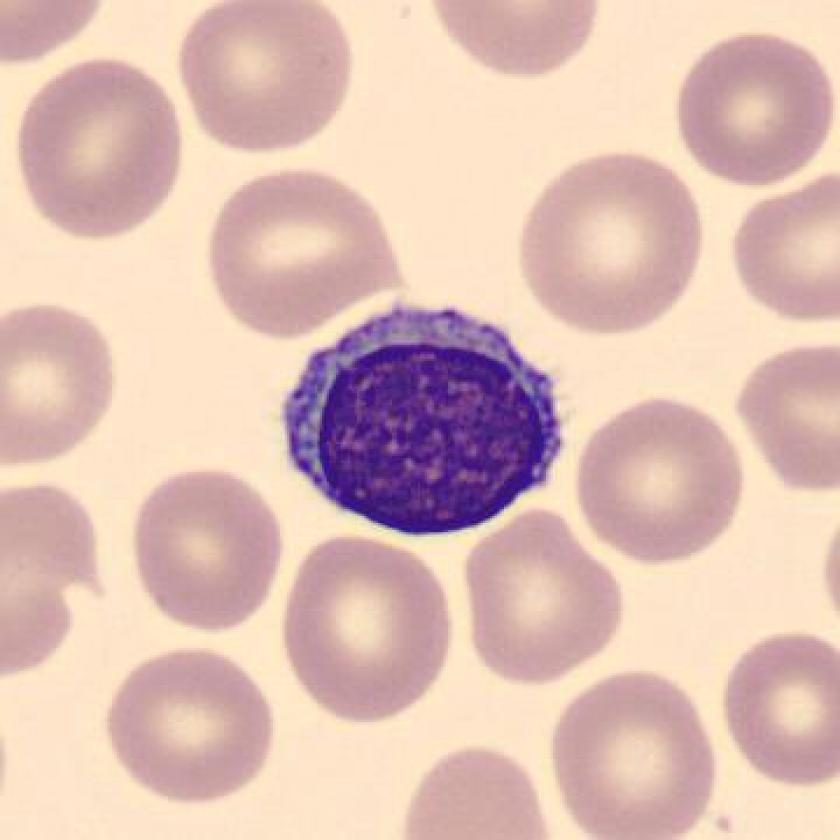lymphocyte: (265, 288, 575, 545)
